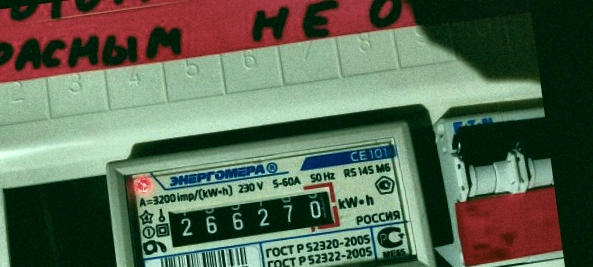0: (307, 197, 323, 219)
2: (178, 215, 195, 237), (255, 205, 271, 227)
6: (203, 212, 219, 235), (230, 209, 246, 231)
7: (281, 202, 295, 222)
screen: (157, 177, 347, 254)
